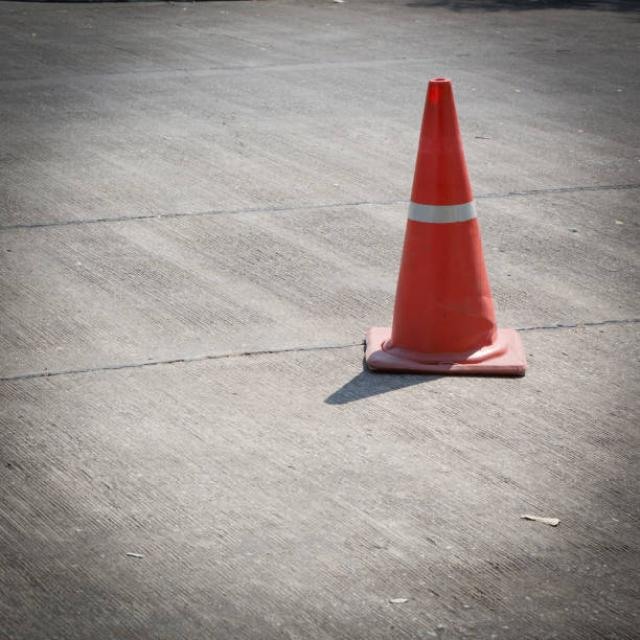Traffic Cone: (329, 54, 563, 397)
